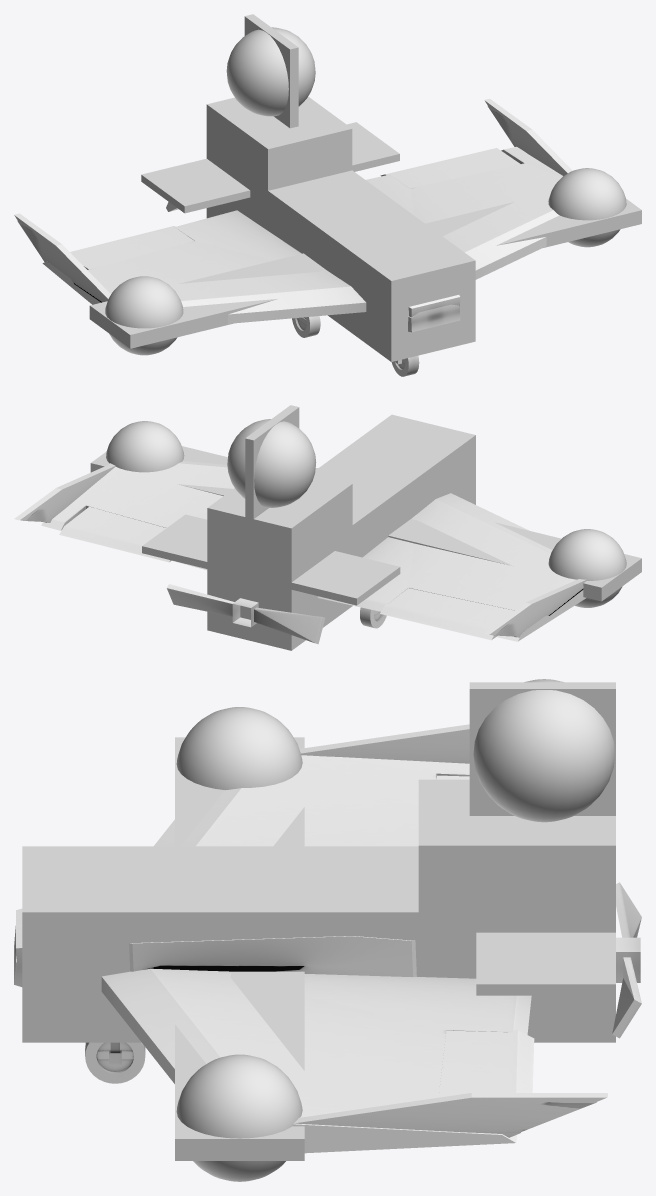
File: wing.glb
3 views of the same model, one above another, from view 1: azimuth 30°, elevation 25°; view 2: azimuth 150°, elevation 25°; view 3: azimuth 270°, elevation 25° (orthographic). The views are drawn at different scales.
Parts seen in each view (by area): view 1: Cube.008, body.009, body.003, Cube.009, Sphere.004, Cube.014, Sphere.002, Sphere.003, Cube.012, Cube.013, aileron.L, aileron.R (+5 smaller); view 2: Cube.008, body.009, Cube.009, body.003, Sphere.004, aileron.R, Cube.012, Sphere.002, Cube.014, rotor, Sphere.003, aileron.L (+6 smaller); view 3: Cube.008, body.003, Cube.009, body.009, Sphere.004, body, Sphere.003, Cube.011, Cube.013, Sphere.002, body.002, aileron.L (+5 smaller).
Part boxes in pixels (<box>): Cube.008: <box>206,146,475,361</box>; body.009: <box>42,210,366,323</box>; body.003: <box>366,146,562,279</box>; Cube.009: <box>206,96,352,190</box>; Sphere.004: <box>226,27,315,116</box>; Cube.014: <box>89,253,325,348</box>; Sphere.002: <box>105,276,183,355</box>; Sphere.003: <box>548,168,626,247</box>; Cube.012: <box>141,158,250,213</box>; Cube.013: <box>425,199,641,248</box>; aileron.L: <box>380,148,520,188</box>; aileron.R: <box>70,226,194,269</box>; Cube.008: <box>207,414,475,650</box>; body.009: <box>317,493,585,641</box>; Cube.009: <box>207,474,352,569</box>; body.003: <box>41,461,318,570</box>; Sphere.004: <box>227,419,316,507</box>; aileron.R: <box>380,588,513,640</box>; Cube.012: <box>291,551,400,605</box>; Sphere.002: <box>548,529,626,607</box>; Cube.014: <box>388,519,641,601</box>; rotor: <box>167,584,325,644</box>; Sphere.003: <box>106,421,184,472</box>; aileron.L: <box>59,506,171,562</box>; Cube.008: <box>22,846,615,1042</box>; body.003: <box>101,968,531,1153</box>; Cube.009: <box>418,779,615,912</box>; body.009: <box>154,755,469,846</box>; Sphere.004: <box>473,679,615,822</box>; body: <box>14,908,416,986</box>; Sphere.003: <box>176,1054,302,1181</box>; Cube.011: <box>476,932,615,995</box>; Cube.013: <box>175,971,304,1160</box>; Sphere.002: <box>176,707,302,790</box>; body.002: <box>294,1093,607,1137</box>; aileron.L: <box>438,1030,534,1097</box>.
Size of the model in its own units: 3.56 by 1.63 by 2.35.
2 materials, 2 textured.
